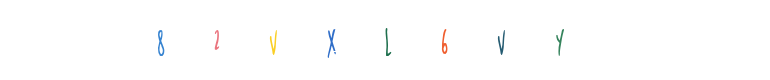2: (233, 0, 313, 80)
6: (345, 0, 425, 80)
8: (211, 0, 291, 80)
L: (337, 0, 417, 80)
V: (250, 0, 330, 80), (404, 0, 484, 80)
X: (315, 0, 395, 80)
Y: (443, 0, 523, 80)
